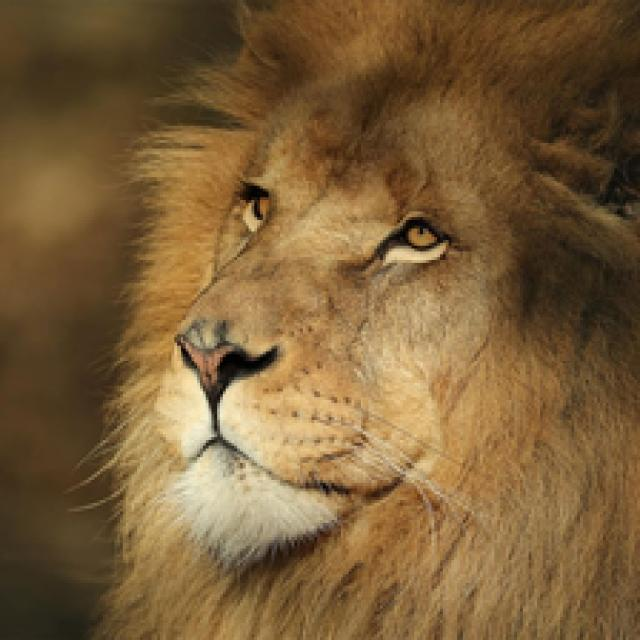lion: (90, 0, 640, 594)
